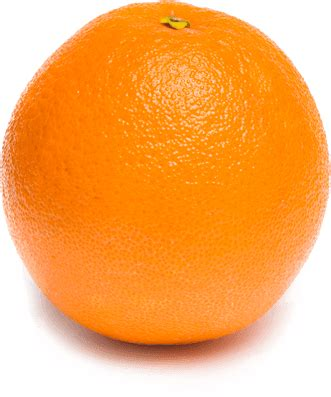orange: (1, 1, 327, 351)
